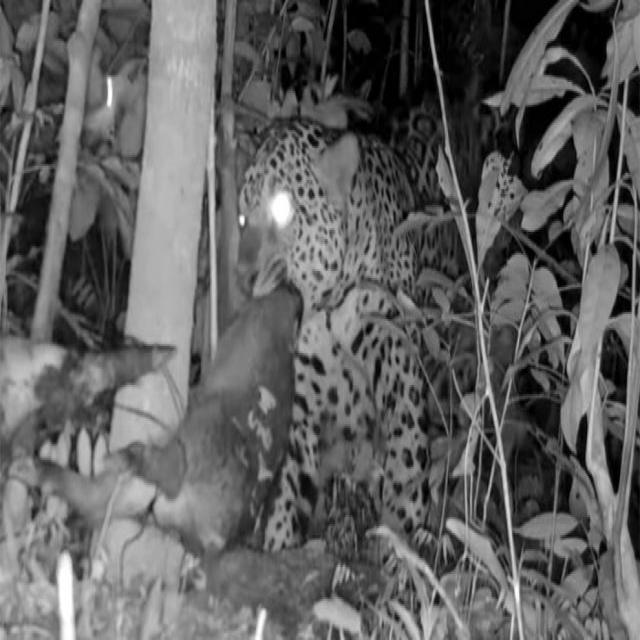Jaguar: (233, 111, 435, 558)
